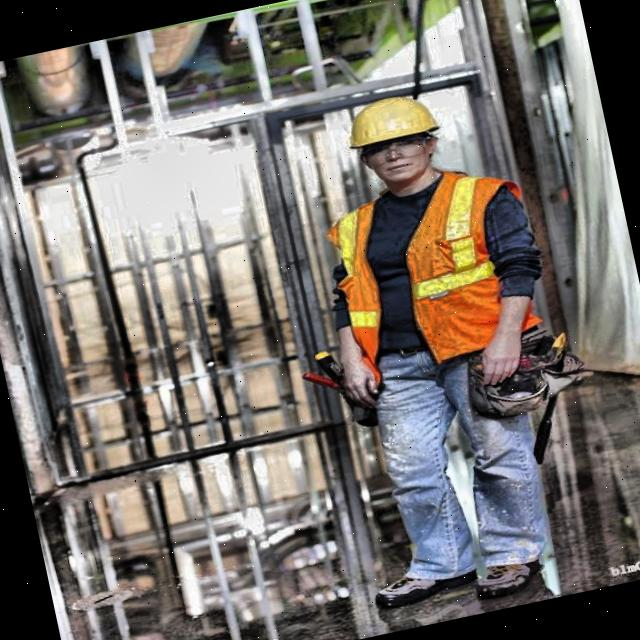helmet: (328, 86, 467, 201)
